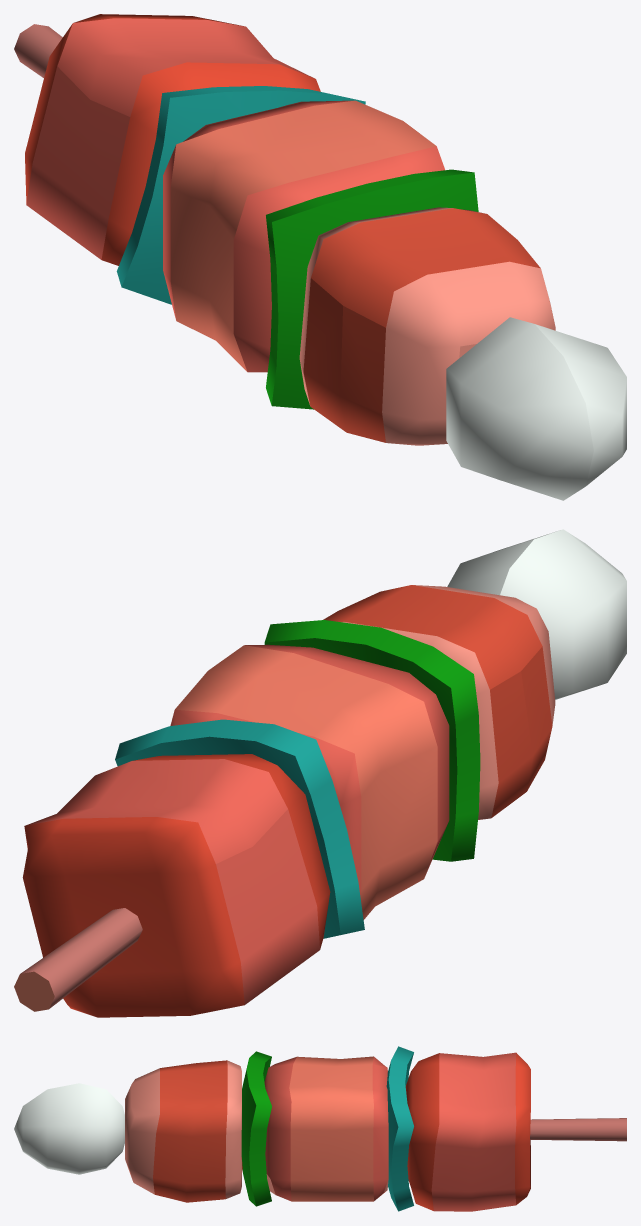
File: BBQ.fbx
3 views of the same model, one above another, from view 1: azimuth 30°, elevation 25°; view 2: azimuth 150°, elevation 25°; view 3: azimuth 270°, elevation 25° (orthographic). The views are drawn at different scales.
Parts seen in each view (by area): view 1: BBQ:BBQ_0; view 2: BBQ:BBQ_0; view 3: BBQ:BBQ_0.
Boxes of the visible parts, bbox=[...] form: BBQ:BBQ_0: bbox=[14, 14, 626, 500]; BBQ:BBQ_0: bbox=[14, 529, 626, 1017]; BBQ:BBQ_0: bbox=[14, 1046, 626, 1211].
Size of the model in its own units: 0.3684 by 0.334 by 1.46.
